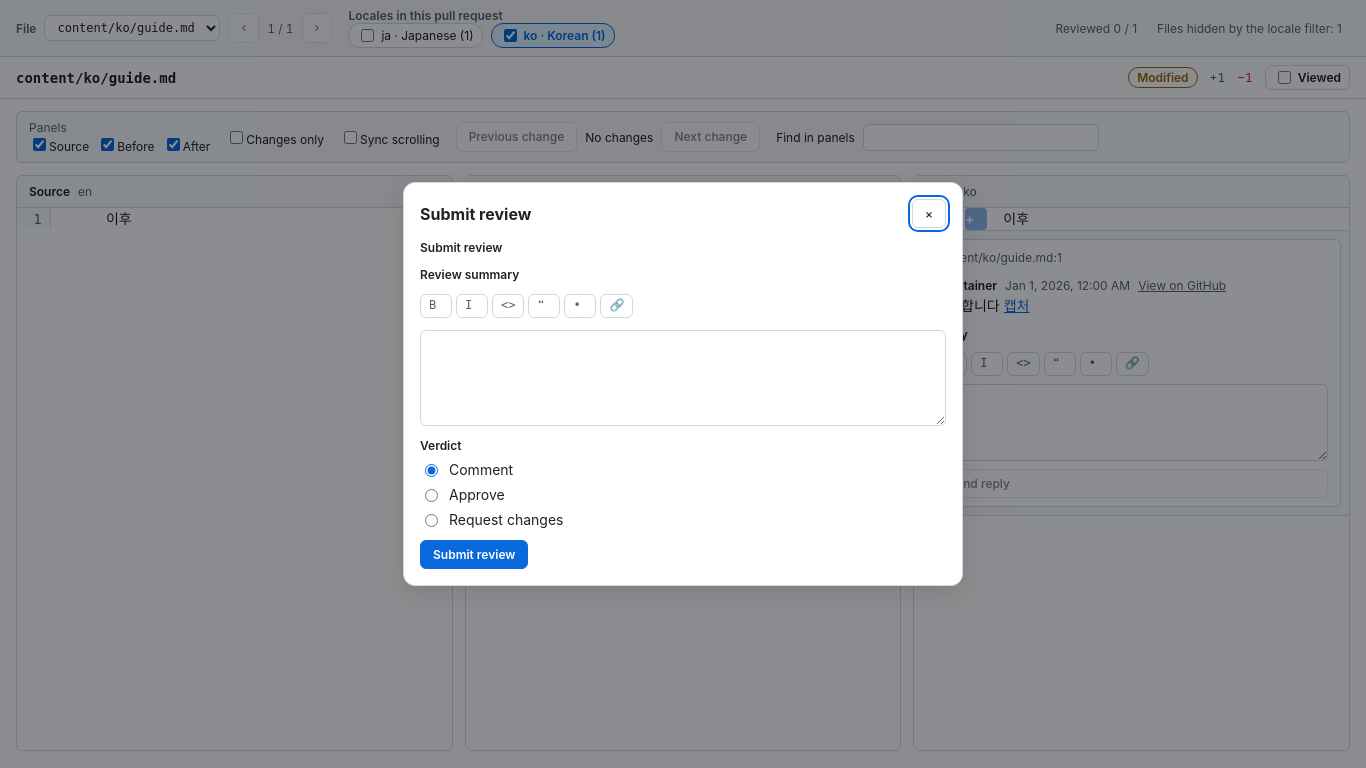
Test: review submission › blocks Approve until the reviewer acknowledges the hidden locales
This screenshot has width=1366, height=768.
Step 1. Click the radio button labelled "Approve" → (432, 496), box top-left (425, 489), bottom-right (438, 502)
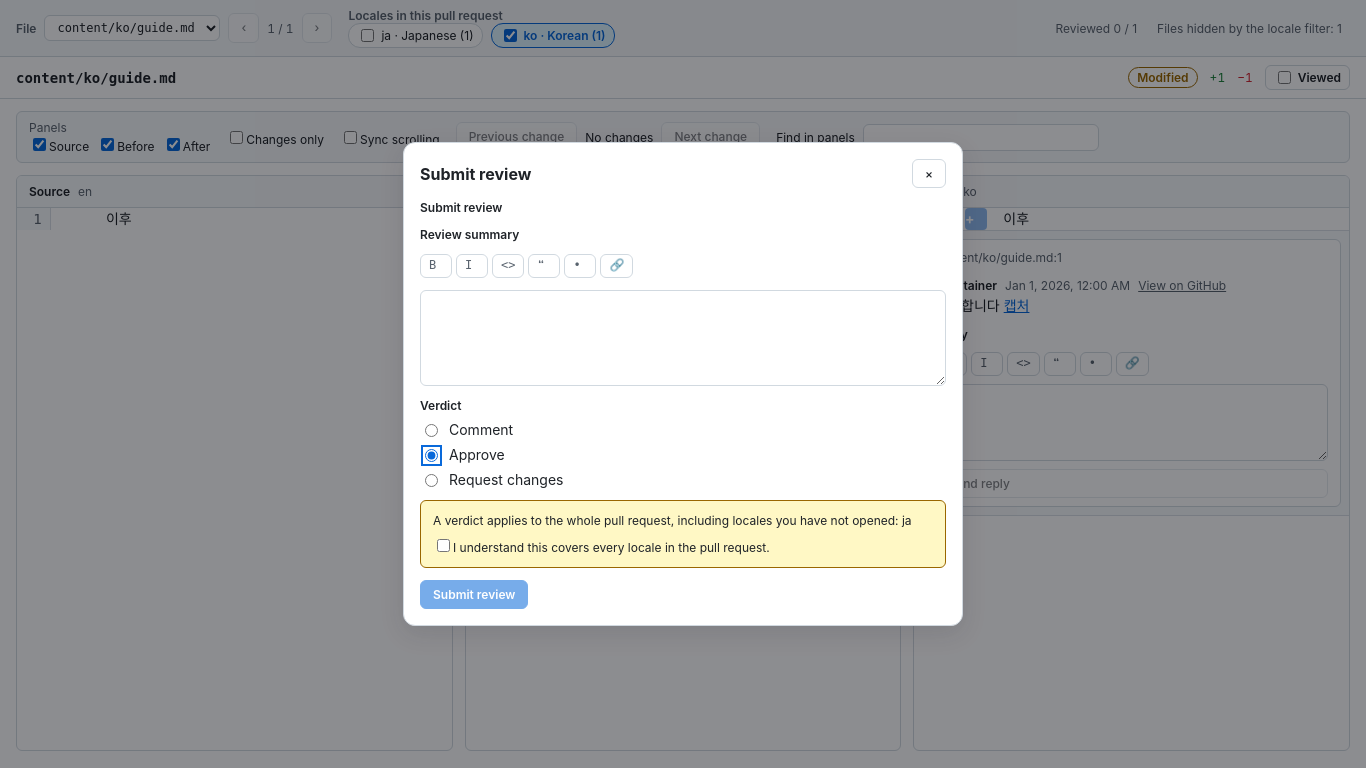
Check: the text "applies to the whole pull request" shows "ja", box top-left (902, 513), bottom-right (912, 528)
Check: the button "Submit review" is disabled, box top-left (420, 580), bottom-right (528, 609)
Step 2. Click the checkbox labelled "I understand this covers every locale in the pull request." → (444, 545), box top-left (437, 539), bottom-right (450, 552)
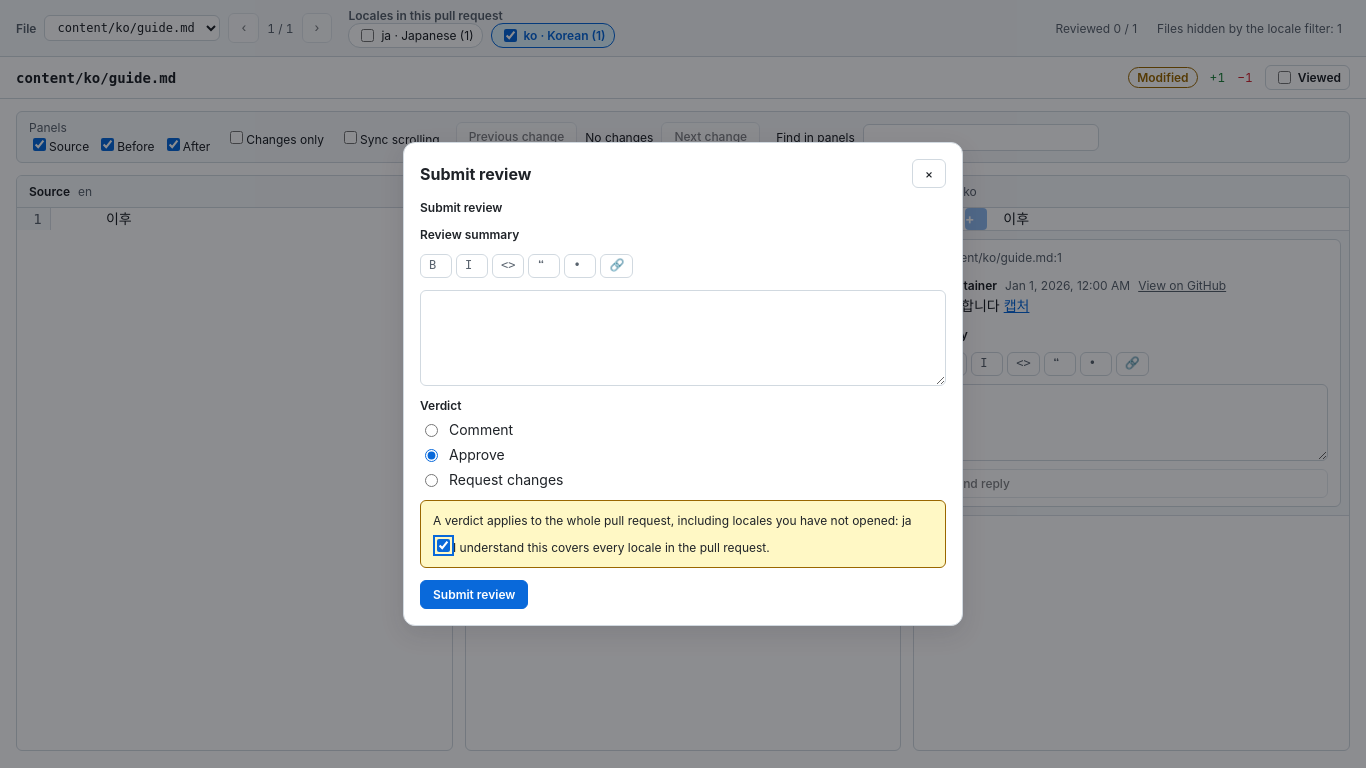
Check: the button "Submit review" is enabled, box top-left (420, 580), bottom-right (528, 609)
